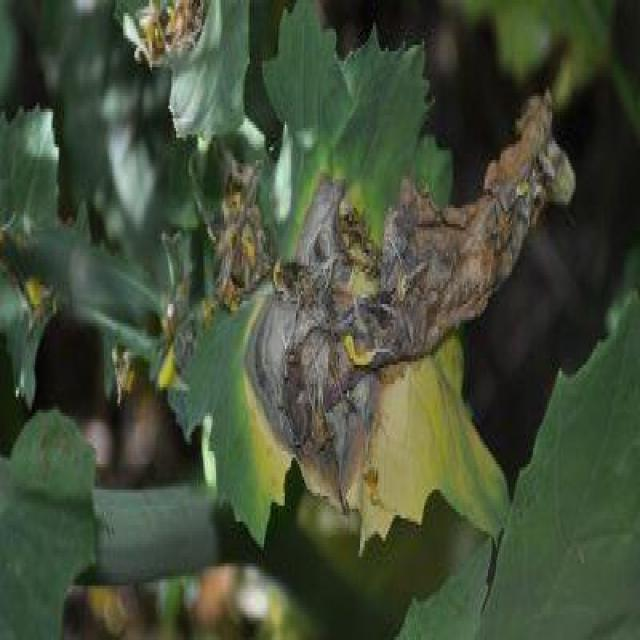blight: (264, 153, 418, 465)
